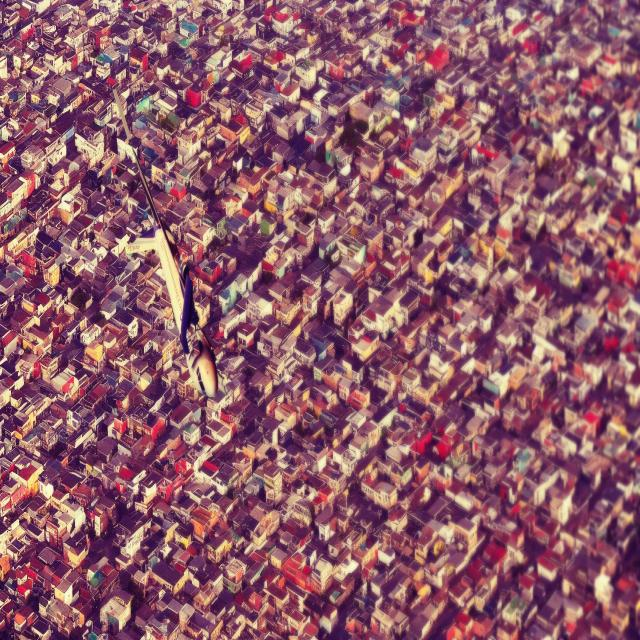airplane: (112, 86, 219, 399)
